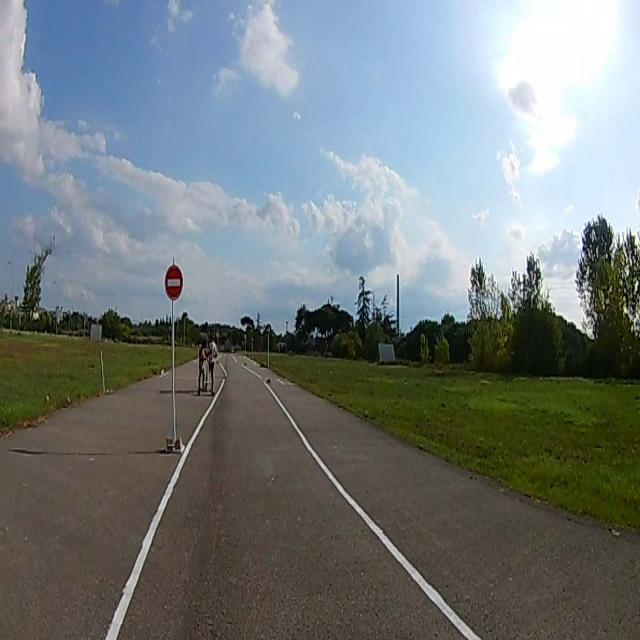girisyok: (165, 267, 182, 295)
